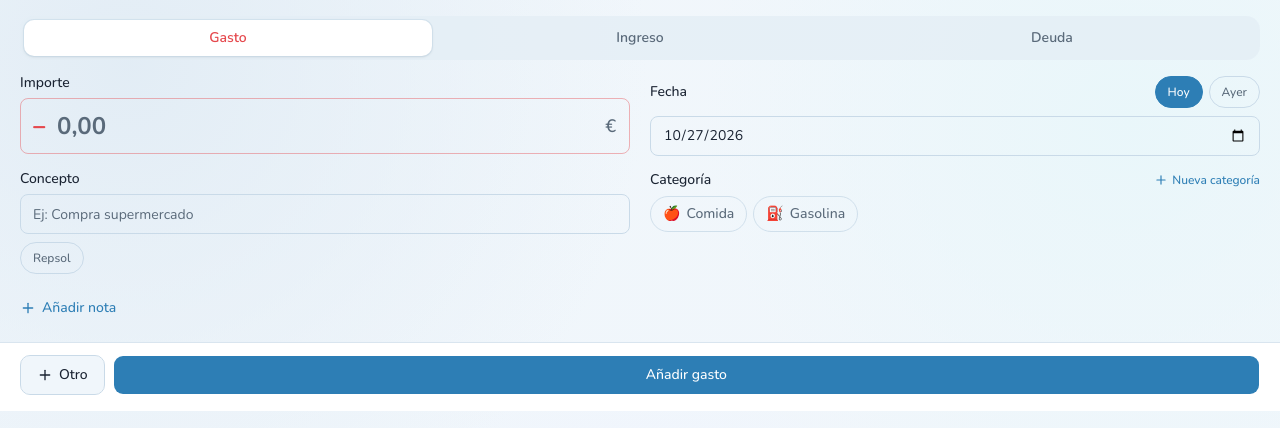
Test: ExpenseForm quick entry › a frequent-concept chip fills concept + category and focuses the amount
The image size is (1280, 428).
What coordinates should you click on to do the following:
click the button "Repsol"
I would click on:
 (52, 258)
Its box is [20,242,84,274].
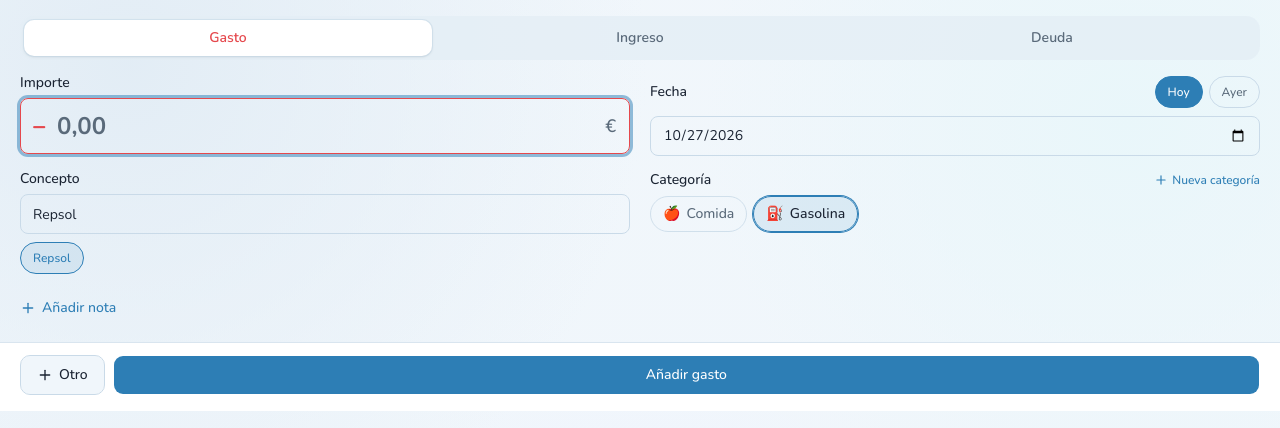
Now the field labelled "Concepto" holds "Repsol", box [20,194,630,234]
